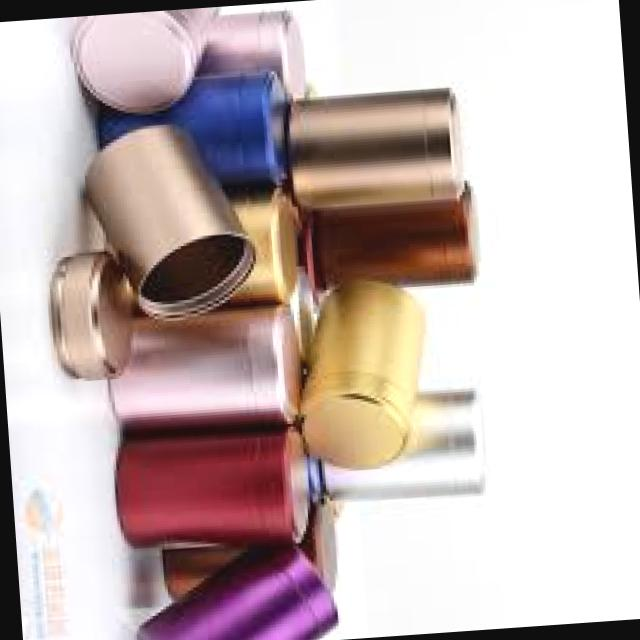metal: (84, 128, 254, 319), (110, 305, 300, 429), (299, 282, 422, 470), (116, 430, 307, 548), (97, 72, 287, 186), (286, 89, 463, 208), (139, 547, 337, 639), (322, 392, 484, 502), (311, 187, 478, 287), (72, 7, 217, 112), (50, 252, 132, 381), (196, 11, 305, 98), (228, 187, 297, 305), (162, 546, 243, 599), (287, 270, 318, 360)
